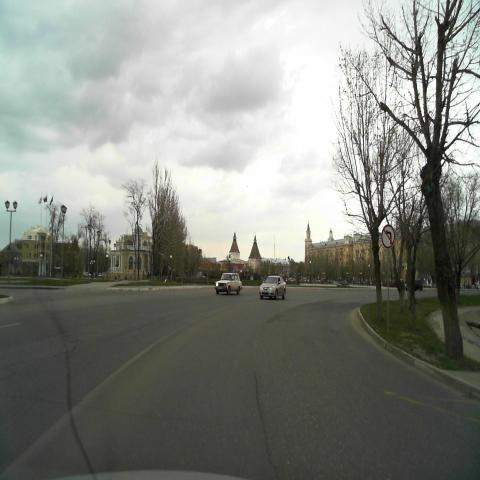3_18_2: (380, 222, 396, 250)
